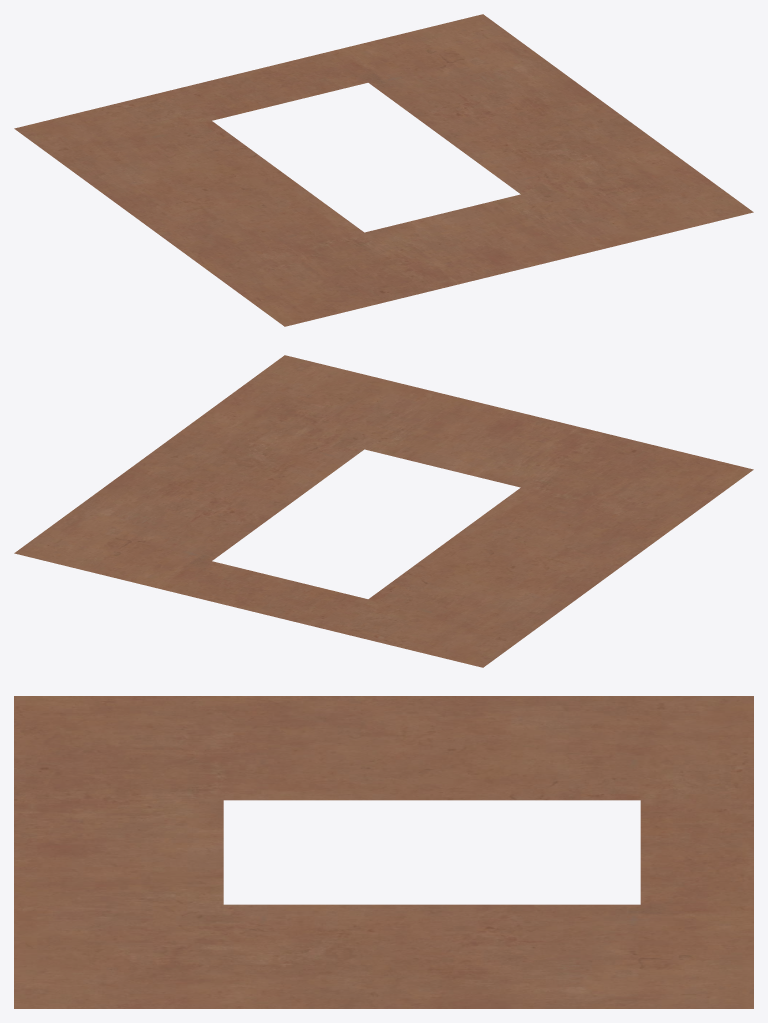
Rendered from wall_window_centered_small_01.gltf.
3 renders of one model, top to bottom at view 1: azimuth 30°, elevation 25°; view 2: azimuth 150°, elevation 25°; view 3: azimuth 270°, elevation 25°, orthographic. The views are drawn at different scales.
Visible parts, largest first — view 1: wall_window_centered_small_01; view 2: wall_window_centered_small_01; view 3: wall_window_centered_small_01.
Part boxes in pixels (left/top/right/bottom): wall_window_centered_small_01: left=14, top=14, right=753, bottom=326; wall_window_centered_small_01: left=14, top=355, right=753, bottom=667; wall_window_centered_small_01: left=14, top=696, right=753, bottom=1008.
Size of the model in its own units: 3 by 6.66e-16 by 3.
1 material, 1 textured.
